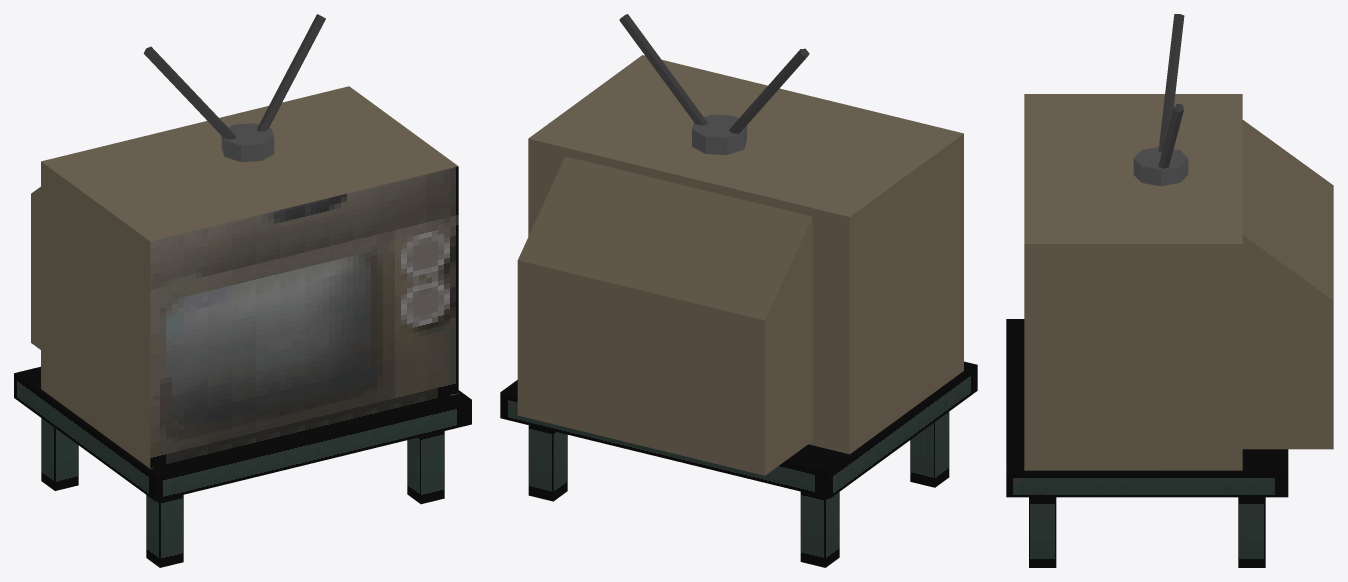
Rendered from Building_TubeTelevision.glb.
3 views of the same model, side by side, from view 1: azimuth 30°, elevation 25°; view 2: azimuth 150°, elevation 25°; view 3: azimuth 270°, elevation 25° (orthographic). The views are drawn at different scales.
Visible parts, largest first — view 1: TubeTelevision; view 2: TubeTelevision; view 3: TubeTelevision.
Boxes of the visible parts, <box> form: TubeTelevision: <box>14,14,471,567</box>; TubeTelevision: <box>500,14,977,567</box>; TubeTelevision: <box>1006,14,1333,567</box>.
Bounding box in the file's own units: 0.8 × 1.09 × 0.72.
Materials: 1 (1 with a texture image).
